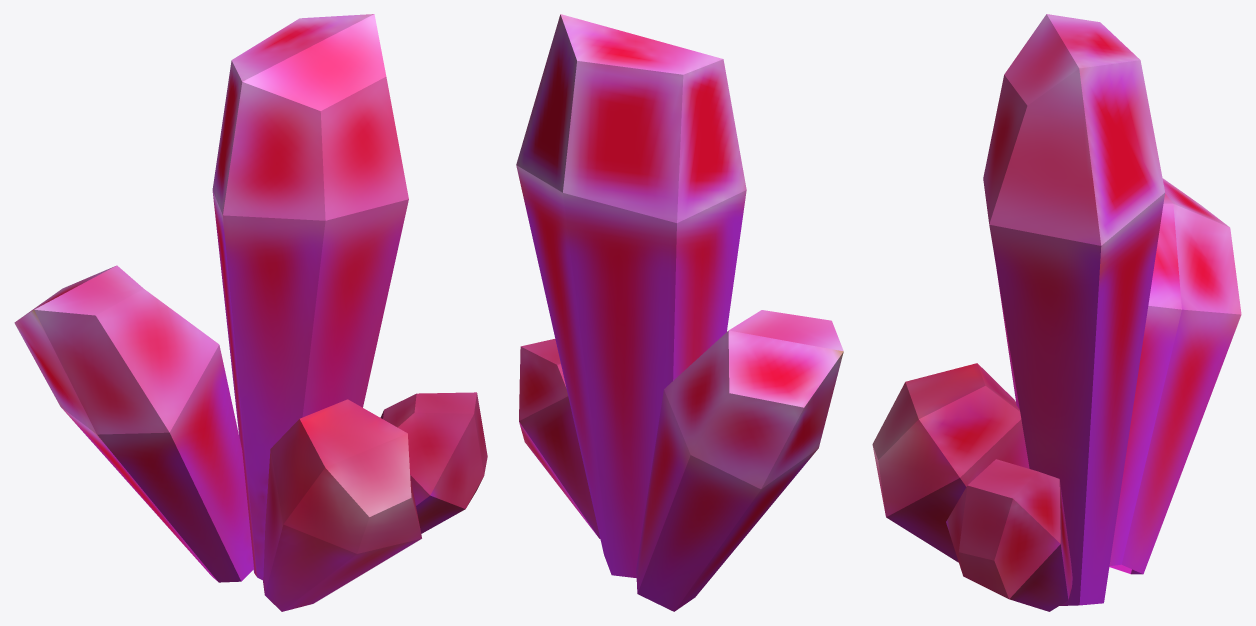
File: ore.fbx
3 renders of one model, left to right at view 1: azimuth 30°, elevation 25°; view 2: azimuth 150°, elevation 25°; view 3: azimuth 270°, elevation 25°, orthographic. The views are drawn at different scales.
Parts seen in each view (by area): view 1: ore; view 2: ore; view 3: ore.
Boxes of the visible parts, x1,y1,x2,y2 form: ore: [14, 14, 487, 611]; ore: [516, 14, 843, 611]; ore: [872, 14, 1241, 611].
Bounding box in the file's own units: 37.32 × 50.99 × 29.37.
